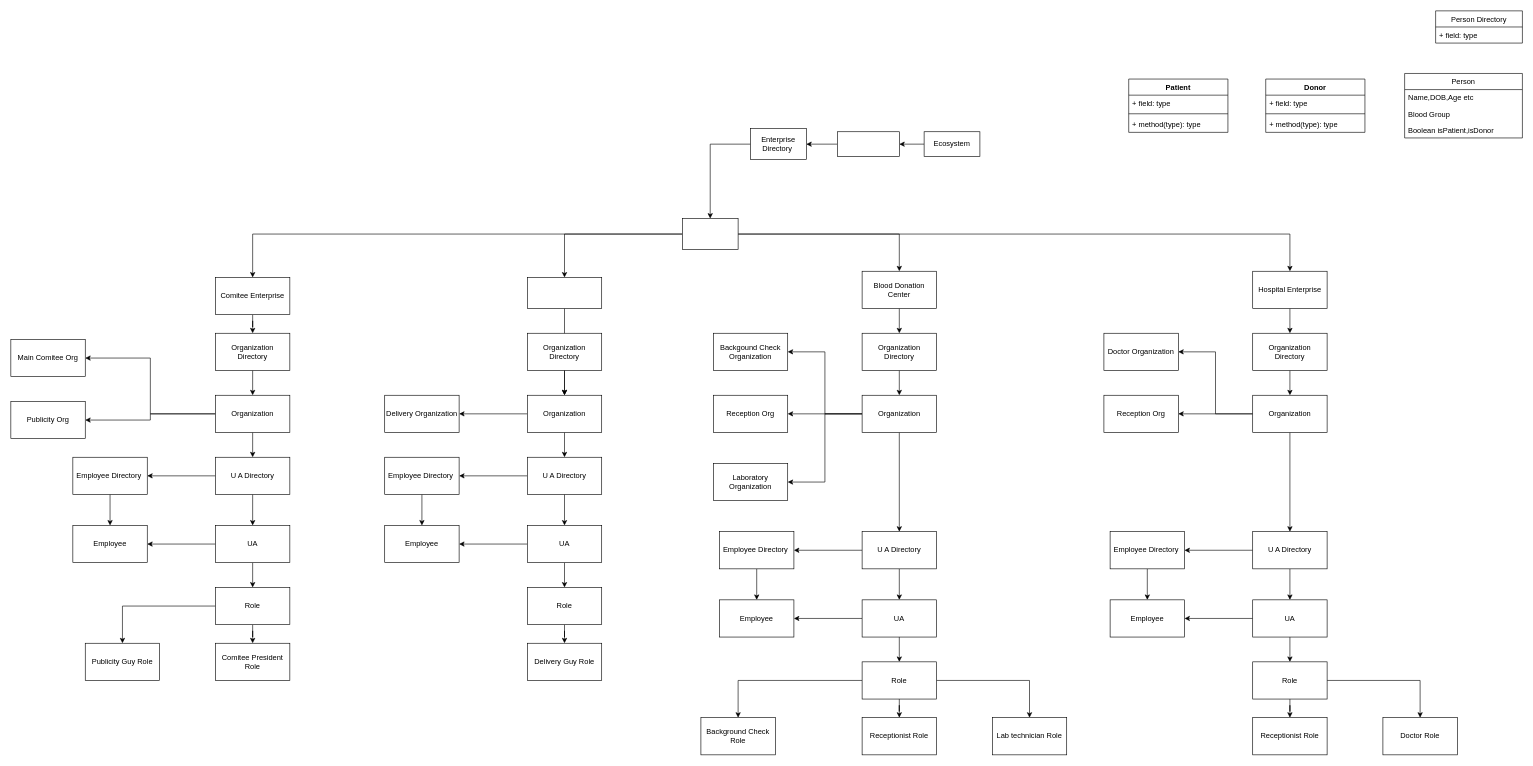
Image size: 1533x766. Some labels were removed from this diagram. The shapes that lost their labels are listed below. From the top down, each one's centre as x and y in pixels, then its label:
point 868,144: Network
point 710,234: Enterprise
point 564,292: Transportation Enterprise
